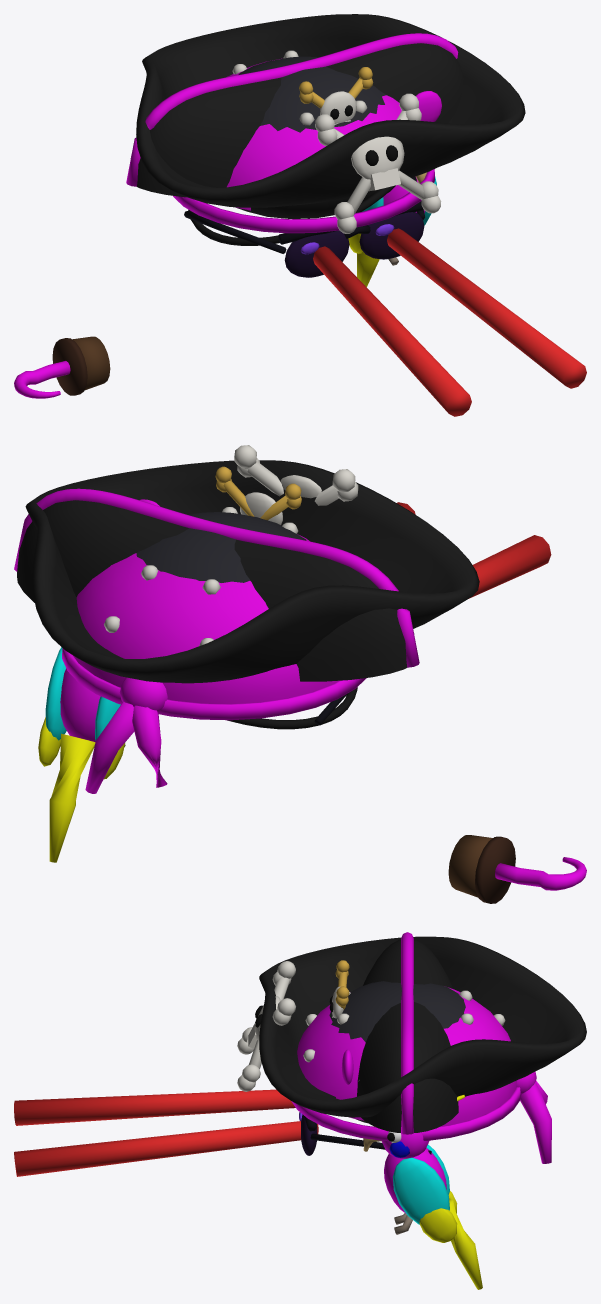
The model's file is gear_hi.glb.
3 renders of one model, top to bottom at view 1: azimuth 30°, elevation 25°; view 2: azimuth 150°, elevation 25°; view 3: azimuth 270°, elevation 25°, orthographic. The views are drawn at different scales.
Parts seen in each view (by area): view 1: hat_tricorn, hat_bicorne, eyes_laser, hat_bandana, eyes_sunglasses, hook_hook, parrot_parrot, eyes_eyepatch; view 2: hat_tricorn, hat_bandana, hat_bicorne, parrot_parrot, hook_hook, eyes_laser, eyes_eyepatch; view 3: hat_tricorn, eyes_laser, hat_bicorne, hat_bandana, parrot_parrot, eyes_sunglasses.
Part boxes in pixels (x1,y1,x2,y2): hat_tricorn: [136, 14, 525, 233]; hat_bicorne: [126, 33, 463, 218]; eyes_laser: [313, 228, 586, 416]; hat_bandana: [173, 50, 434, 233]; eyes_sunglasses: [184, 176, 424, 277]; hook_hook: [14, 336, 110, 398]; parrot_parrot: [348, 172, 436, 287]; eyes_eyepatch: [188, 185, 395, 245]; hat_tricorn: [25, 445, 479, 683]; hat_bandana: [62, 507, 366, 793]; hat_bicorne: [14, 466, 419, 681]; parrot_parrot: [38, 647, 125, 862]; hook_hook: [448, 835, 586, 903]; eyes_laser: [397, 502, 551, 598]; eyes_eyepatch: [227, 687, 357, 729]; hat_tricorn: [237, 936, 586, 1117]; eyes_laser: [14, 1089, 318, 1176]; hat_bicorne: [329, 932, 458, 1134]; hat_bandana: [291, 987, 551, 1163]; parrot_parrot: [363, 1126, 482, 1289]; eyes_sunglasses: [299, 1112, 431, 1155].
Size of the model in its own units: 1.25 by 0.7523 by 1.44.
